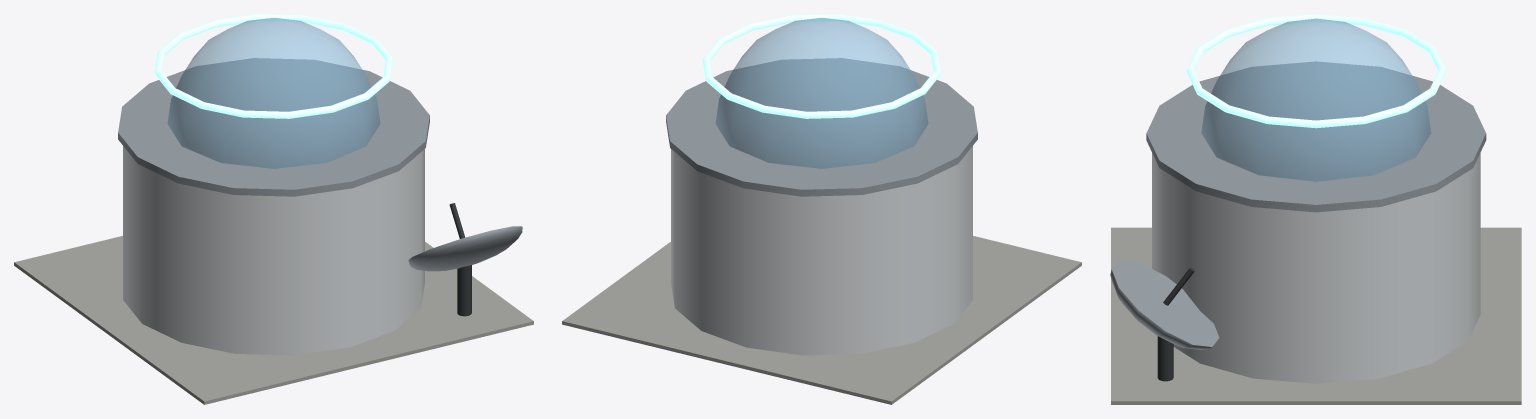
Rendered from bld_special_research_center_a08.glb.
3 renders of one model, left to right at view 1: azimuth 30°, elevation 25°; view 2: azimuth 150°, elevation 25°; view 3: azimuth 270°, elevation 25°, orthographic. The views are drawn at different scales.
Parts seen in each view (by area): view 1: body, antenna; view 2: body; view 3: body, antenna.
Part boxes in pixels (x1,y1,x2,y2): body: [14, 14, 533, 404]; antenna: [408, 203, 522, 316]; body: [562, 14, 1081, 404]; body: [1111, 14, 1521, 404]; antenna: [1110, 260, 1219, 381].
Size of what is drawn, in the model's own units: 15.4 by 11.65 by 15.02.
